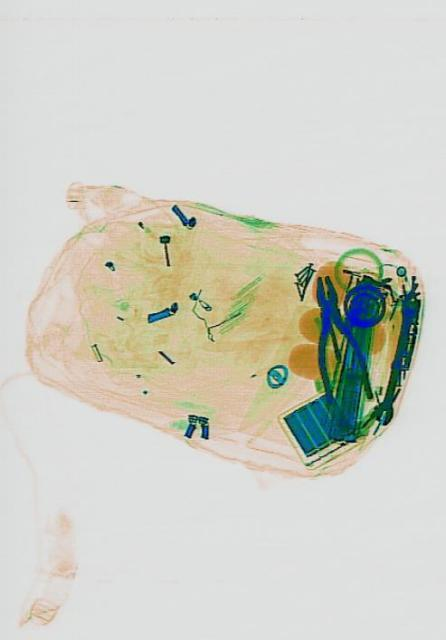Pliers: (297, 267, 370, 413)
Wrench: (369, 288, 420, 428)
